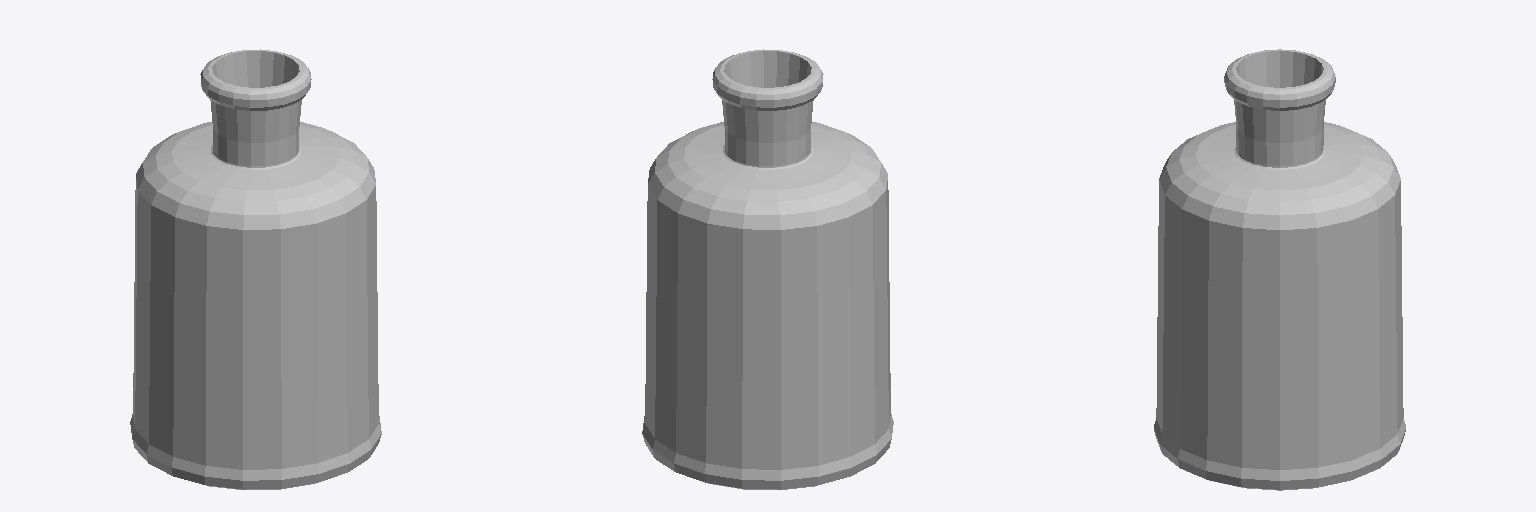
Rendered from bottlesmall.obj.
The picture shows the model from 3 angles: view 1: azimuth 30°, elevation 25°; view 2: azimuth 150°, elevation 25°; view 3: azimuth 270°, elevation 25°; orthographic projection.
Visible parts, largest first — view 1: bottlesmall; view 2: bottlesmall; view 3: bottlesmall.
Part boxes in pixels (x1,y1,x2,y2): bottlesmall: (130, 49, 381, 489); bottlesmall: (642, 49, 893, 489); bottlesmall: (1154, 49, 1405, 490).
Bounding box in the file's own units: 1.96 × 3.2 × 1.96.